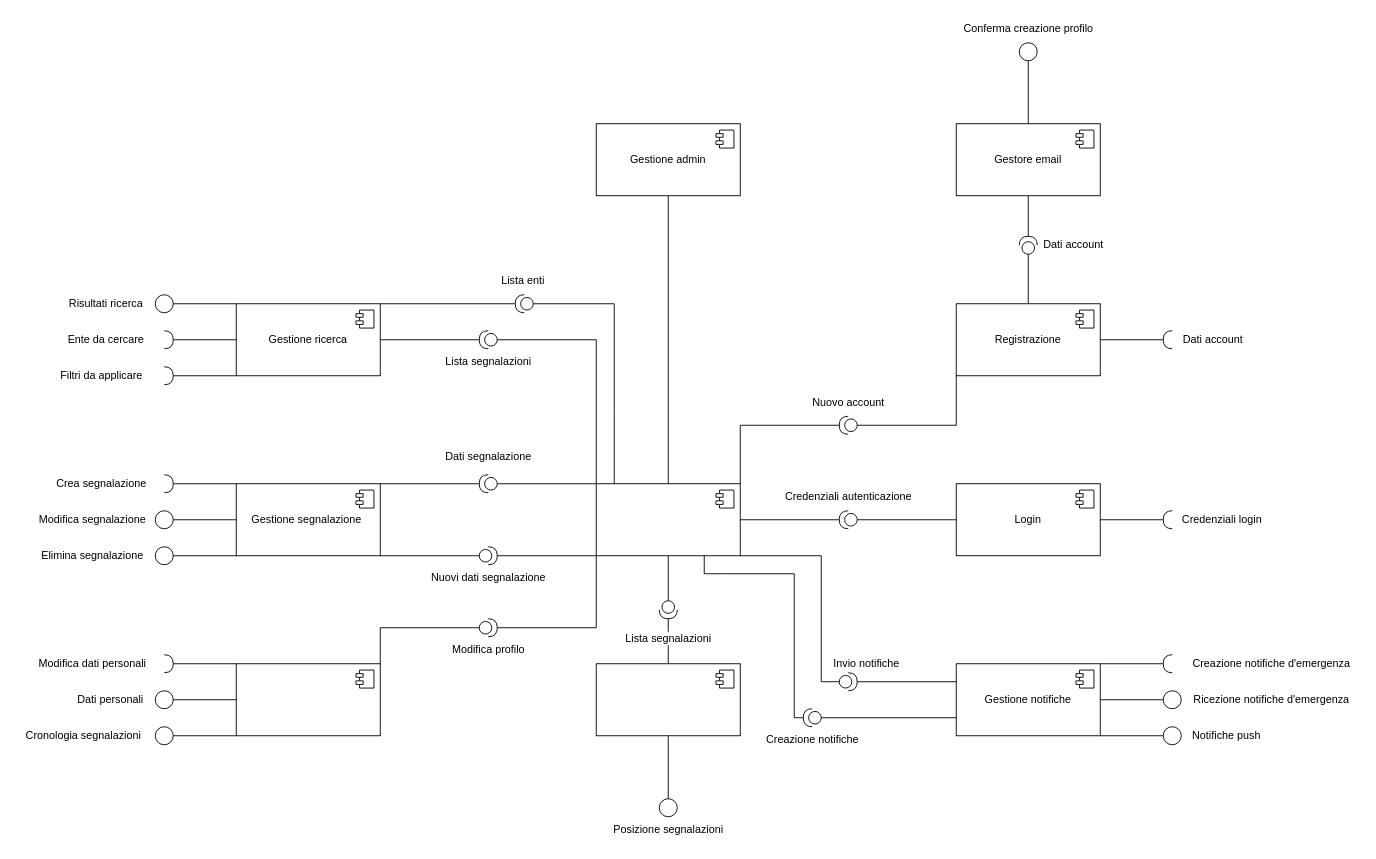
The diagram is 1376 pixels wide and 859 high, and some of its shapes have lost their labels. Here are the shapes that lost their labels. From the top down, the centre of each, then its label:
At (x=667, y=519): "Gestione database".
At (x=307, y=699): "Gestione profilo".
At (x=667, y=699): "Gestione mappe".
